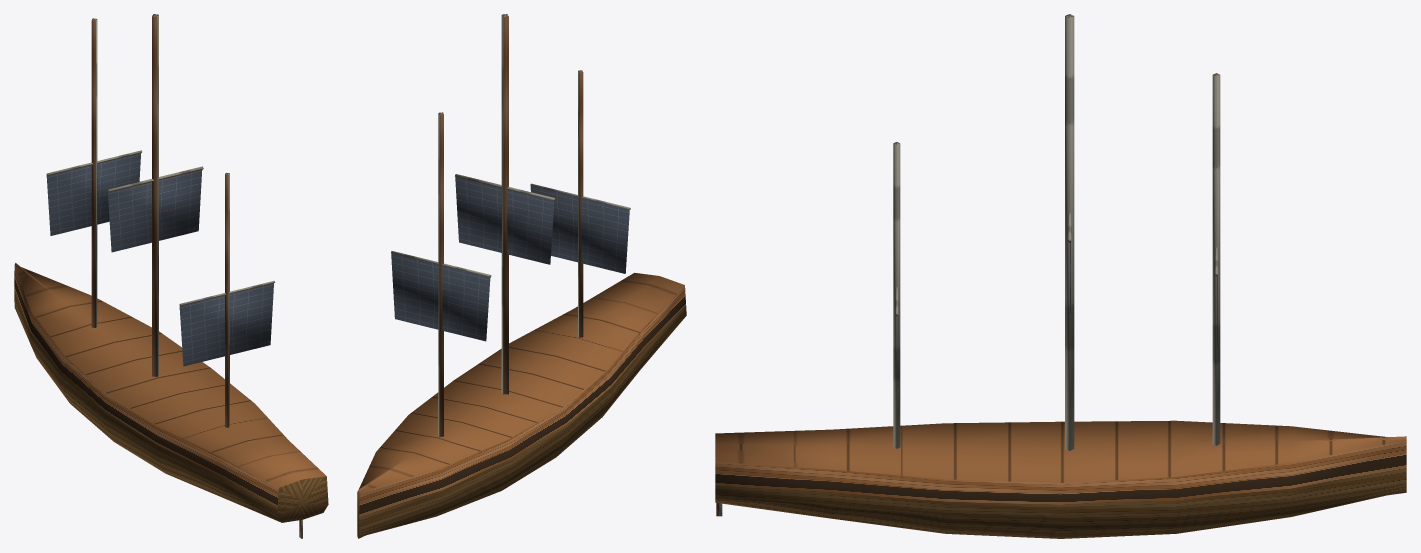
File: SHIP-H_LOD2.fbx
The picture shows the model from 3 angles, left to right: view 1: azimuth 30°, elevation 25°; view 2: azimuth 150°, elevation 25°; view 3: azimuth 270°, elevation 25°; orthographic projection. The views are drawn at different scales.
Parts seen in each view (by area): view 1: Hull, Sails, Masts; view 2: Hull, Sails, Masts; view 3: Hull, Masts.
Part boxes in pixels (<box>): Hull: <box>14,263,328,522</box>; Sails: <box>46,153,273,366</box>; Masts: <box>46,14,302,538</box>; Hull: <box>357,272,686,538</box>; Sails: <box>391,177,629,341</box>; Masts: <box>391,14,630,436</box>; Hull: <box>715,420,1406,538</box>; Masts: <box>716,14,1220,516</box>.
Bounding box in the file's own units: 7.2 × 32 × 26.
Materials: 3 (3 with a texture image).
